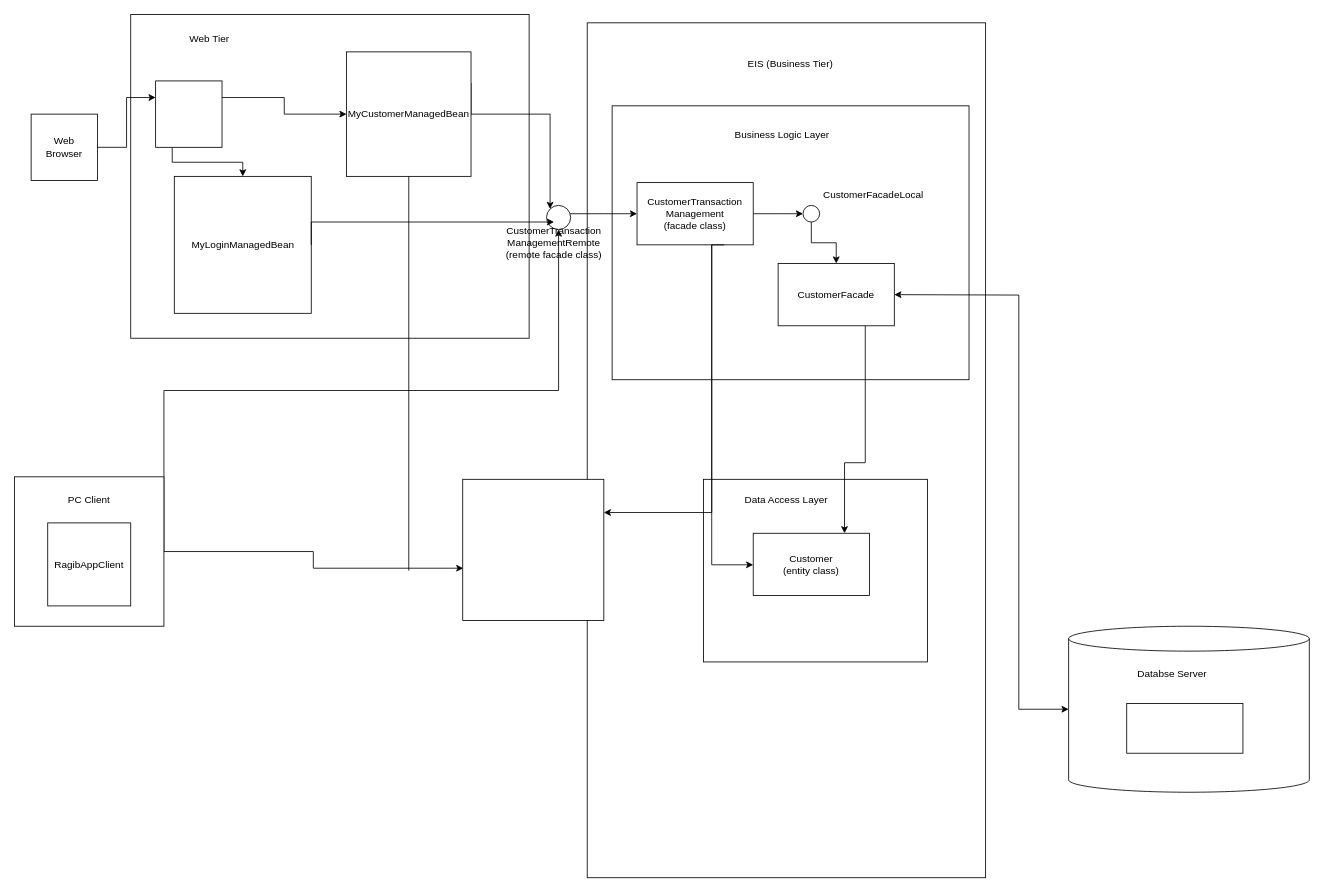
Some shapes in this 1324 by 892 pixel diagram are drawn without their labels. Each missing label, with the centre of its shape:
"CustomerDTOClass" belongs at point (533, 549).
"RAGIB_CUSTOMERS (table)" belongs at point (1184, 728).
"webpages" belongs at point (188, 113).
